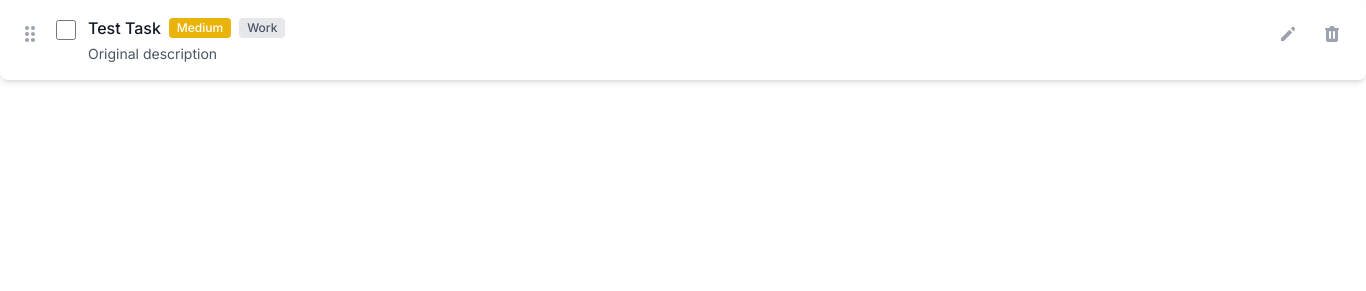
TodoItem Component - Auto Fill Feature › should disable Auto fill button when edit title is empty
This screenshot has width=1366, height=291.
Click the button titled "Edit" at (1288, 34), box left=1270, top=16, right=1306, bottom=52
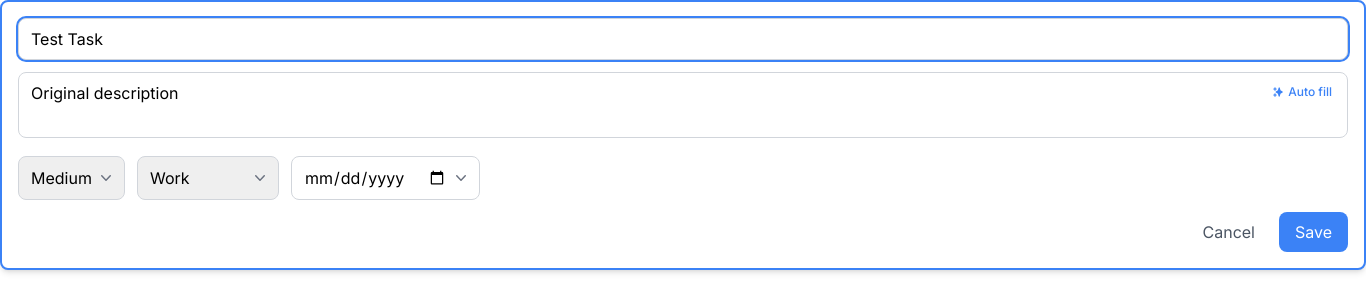
Clear the title
Clear the field showing "Test Task" at (683, 39), box left=18, top=18, right=1348, bottom=60
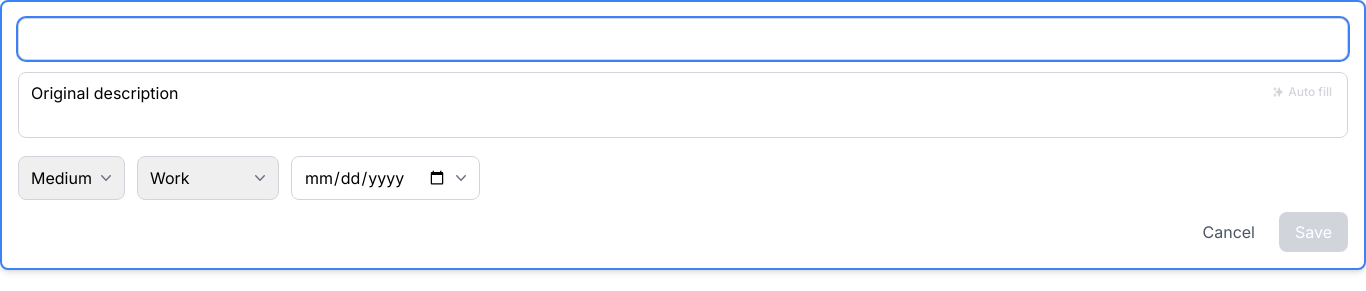
Expected: the button titled "Enter a task title first" is disabled, left=1264, top=80, right=1340, bottom=104
